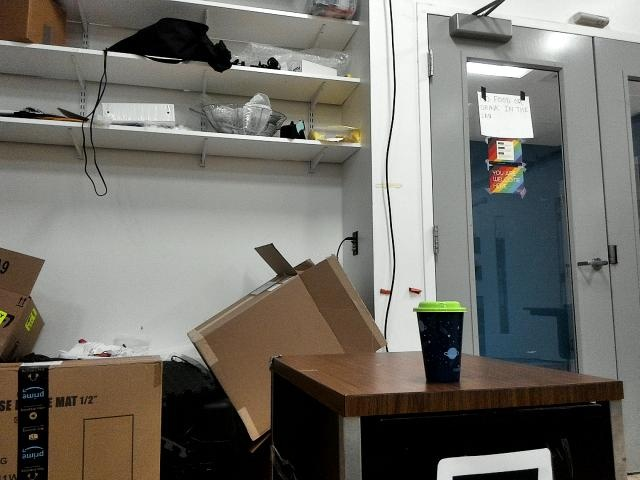water_cup: (415, 301, 463, 383)
